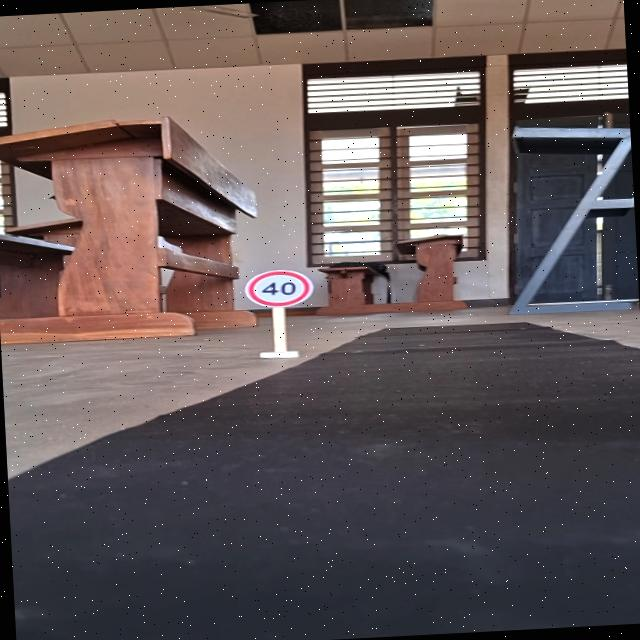Speed40: (236, 266, 316, 315)
